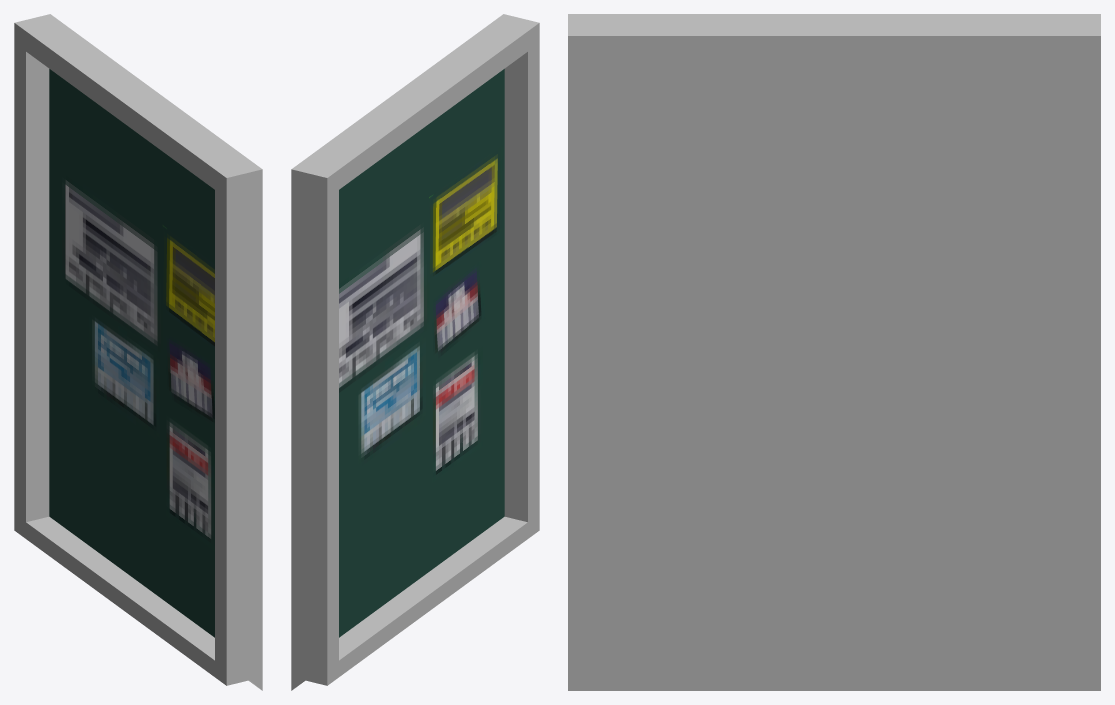
File: mading kanan.fbx
3 views of the same model, side by side, from view 1: azimuth 30°, elevation 25°; view 2: azimuth 150°, elevation 25°; view 3: azimuth 270°, elevation 25° (orthographic). The views are drawn at different scales.
Visible parts, largest first — view 1: Object.001; view 2: Object.001; view 3: Object.001.
Boxes of the visible parts, x1,y1,x2,y2 form: Object.001: (14,14,262,690); Object.001: (291,14,539,690); Object.001: (568,14,1100,690).
Size of the model in its own units: 9.7 by 134 by 99.09.
